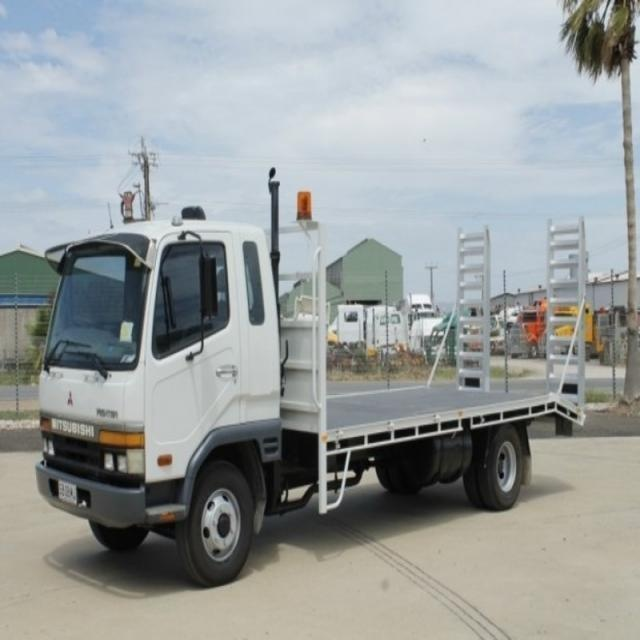Truck: (31, 168, 590, 587)
